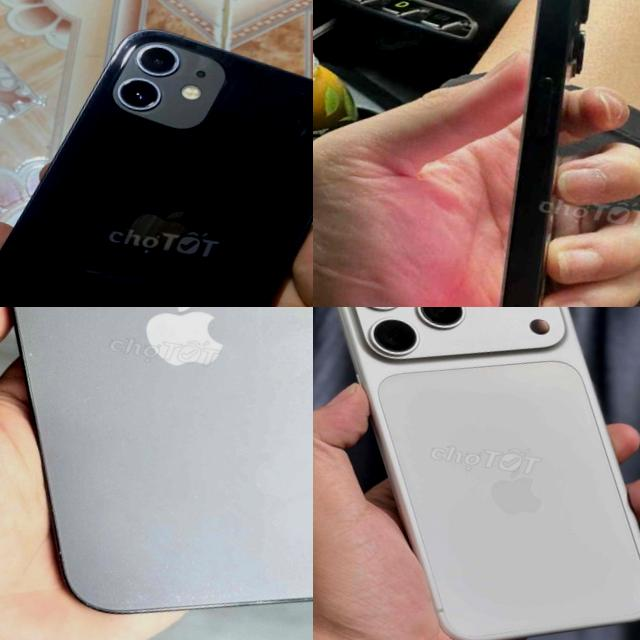gen_12_13: (0, 0, 313, 307)
gen_14: (0, 307, 313, 640), (450, 0, 615, 307)
gen_17: (313, 307, 640, 640)
